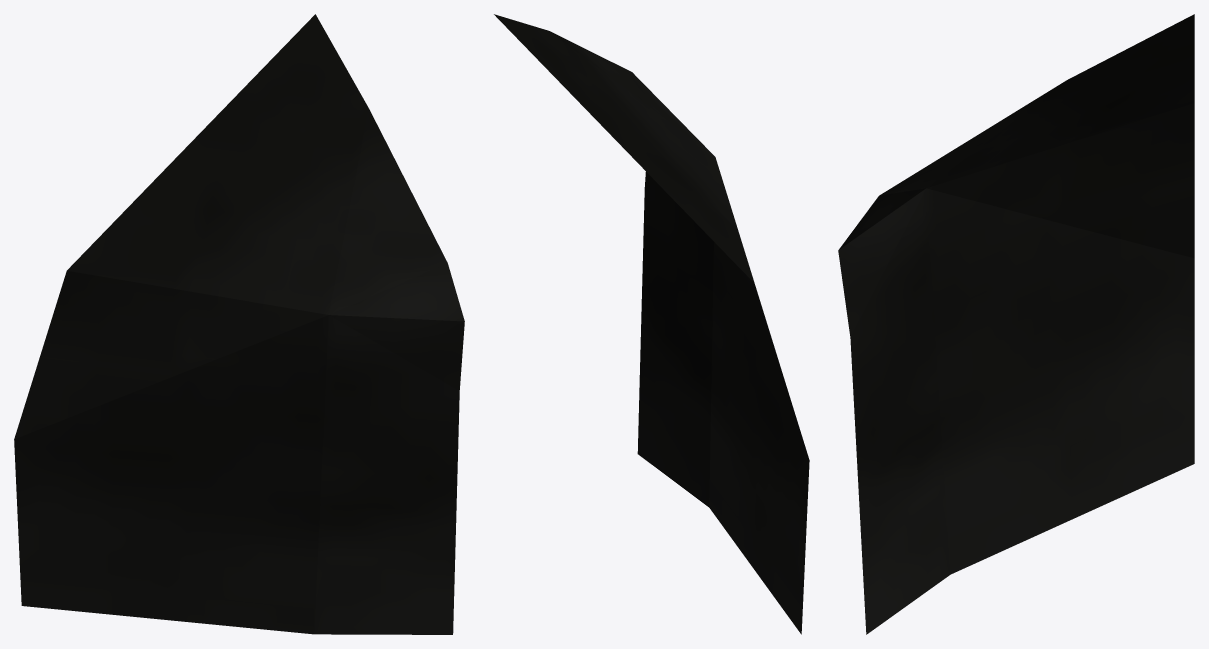
3 views of the same model, side by side, from view 1: azimuth 30°, elevation 25°; view 2: azimuth 150°, elevation 25°; view 3: azimuth 270°, elevation 25° (orthographic). The views are drawn at different scales.
Size of the model in its own units: 0.0581 by 0.0959 by 0.0499.
Materials: 1 (1 with a texture image).
